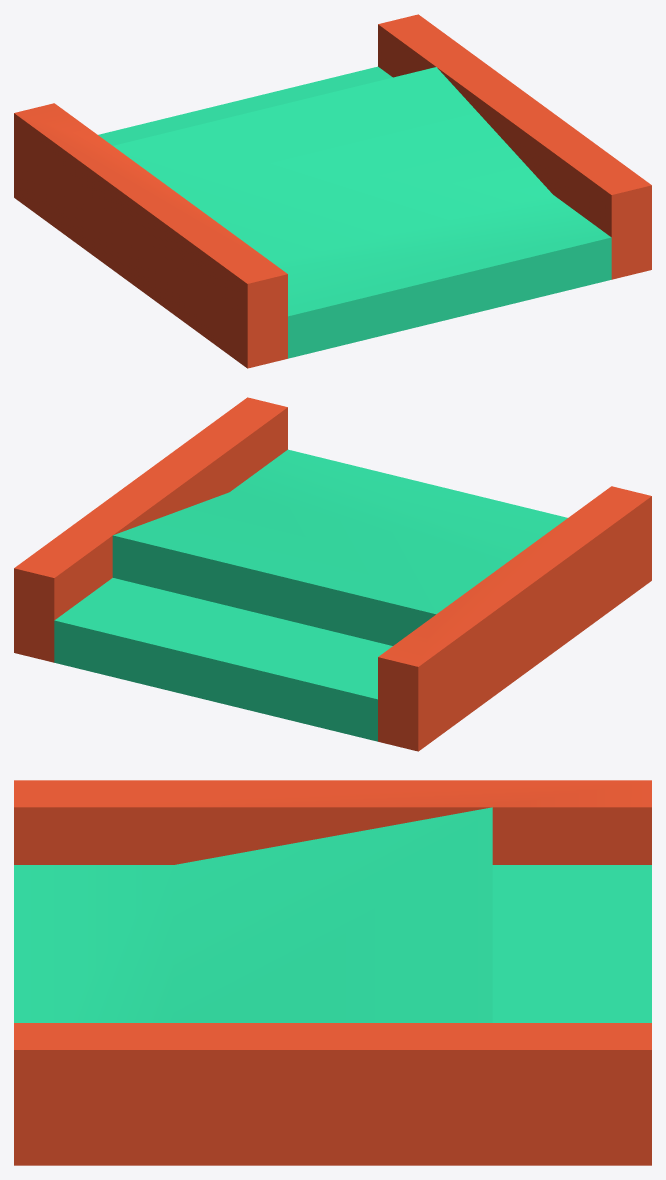
Rendered from track_one_way.fbx.
3 views of the same model, one above another, from view 1: azimuth 30°, elevation 25°; view 2: azimuth 150°, elevation 25°; view 3: azimuth 270°, elevation 25° (orthographic). The views are drawn at different scales.
Parts seen in each view (by area): view 1: straight_slope_47; view 2: straight_slope_47; view 3: straight_slope_47.
Boxes of the visible parts, x1=… form: straight_slope_47: x1=14, y1=14, x2=651, y2=368; straight_slope_47: x1=14, y1=397, x2=651, y2=751; straight_slope_47: x1=14, y1=780, x2=651, y2=1165.
Size of the model in its own units: 10 by 2 by 10.
